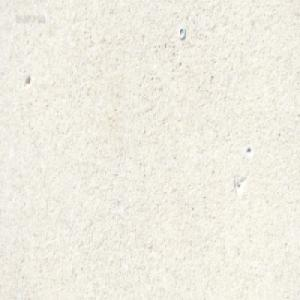Washer: (178, 25, 185, 39)
